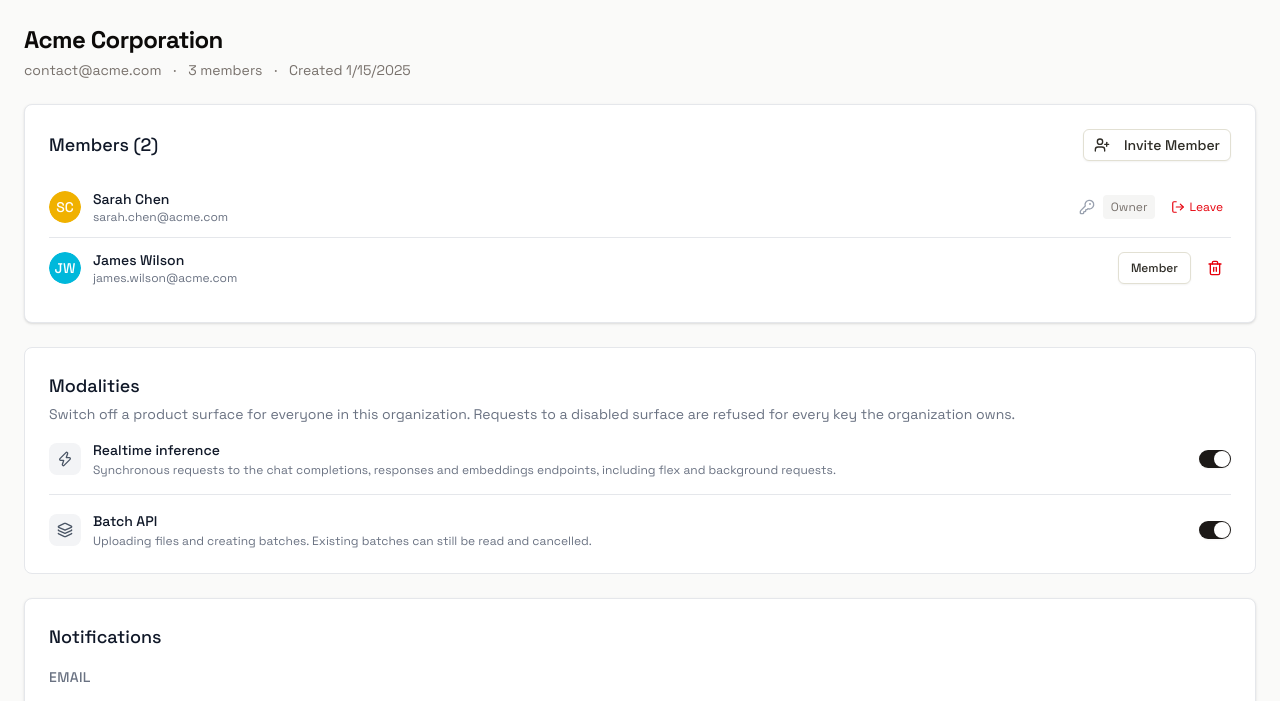
Test case: MyOrganization › member key management › pre-populates the role modal and PATCHes can_manage_keys
The width and height of the screenshot is (1280, 701).
Later steps or results of the test are not shown.
Expected: the text "James Wilson" is shown, [93,251,184,269]
Click the button with aria-label "Change role for James Wilson": (1154, 268) [1118,252,1191,284]
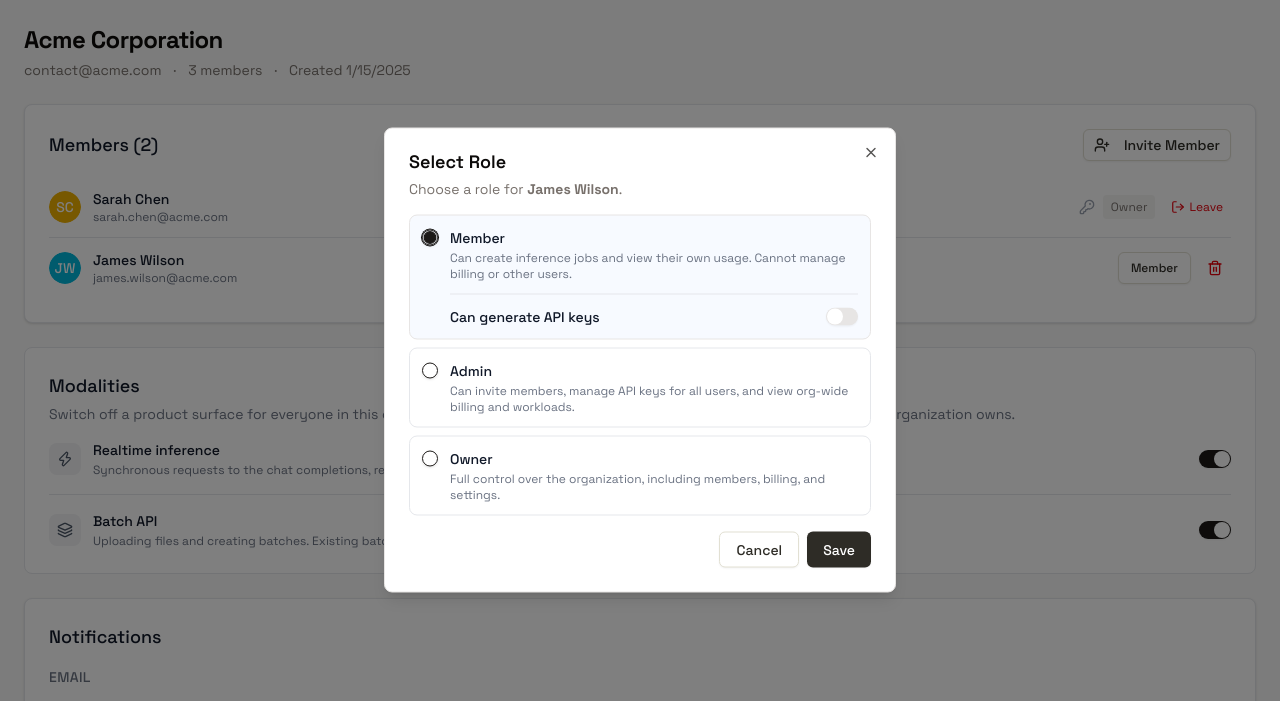
Expected: the 1st radio button named "Member" is checked, [422,230,438,246]
Expected: the switch named "Can generate API keys" is not checked, [826,307,858,326]
Expected: the 3rd radio button named "Owner" is shown, [422,450,438,466]
